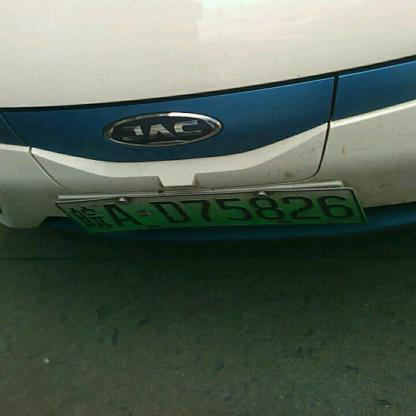lp: (57, 188, 90, 234)
